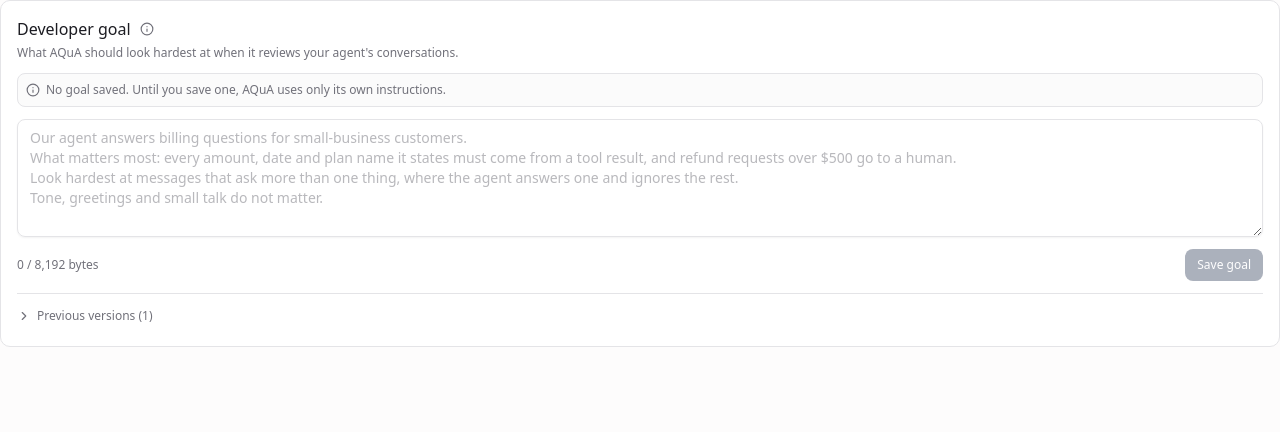
GoalCard history › offers a removed goal for restore
The image size is (1280, 432).
What coordinates should you click on to do the following:
click the button "Previous versions (1)"
I would click on:
 (90, 316)
Its box is [9,302,1271,330].
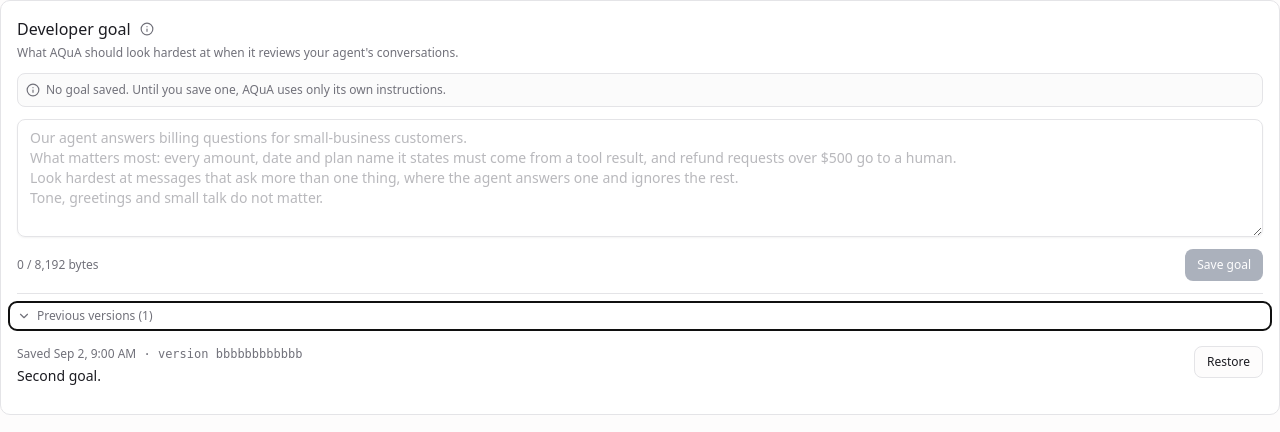
Result: the button with aria-label "Restore version bbbbbbbbbbbb" is shown at [1194,346,1263,378]
